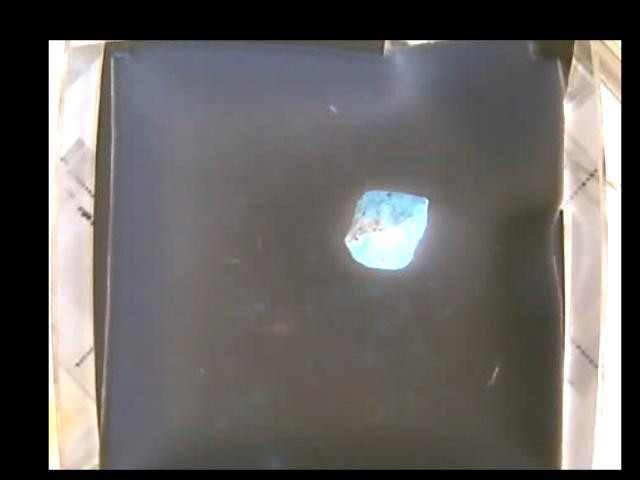Brisk: (344, 186, 426, 268)
